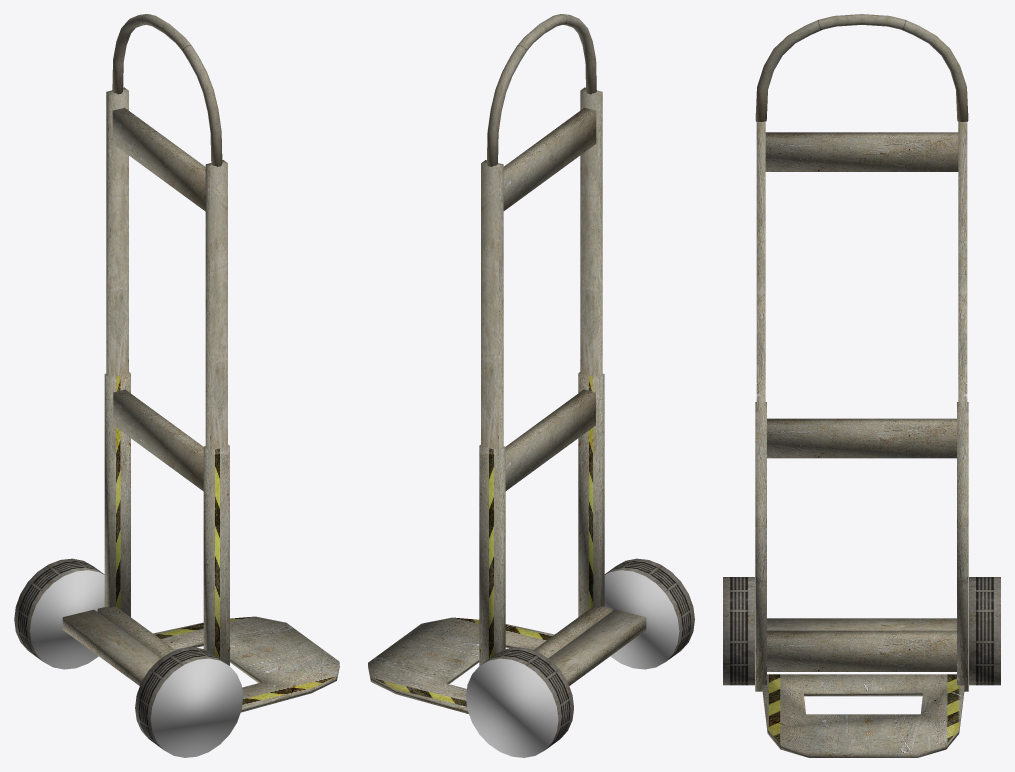
File: hand_truck.fbx
The picture shows the model from 3 angles, left to right: view 1: azimuth 30°, elevation 25°; view 2: azimuth 150°, elevation 25°; view 3: azimuth 270°, elevation 25°; orthographic projection.
Visible parts, largest first — view 1: Mesh; view 2: Mesh; view 3: Mesh.
Part boxes in pixels (<box>): Mesh: <box>14,14,339,757</box>; Mesh: <box>368,14,694,757</box>; Mesh: <box>723,14,1000,757</box>.
Size of the model in its own units: 66.93 by 186 by 68.41.
